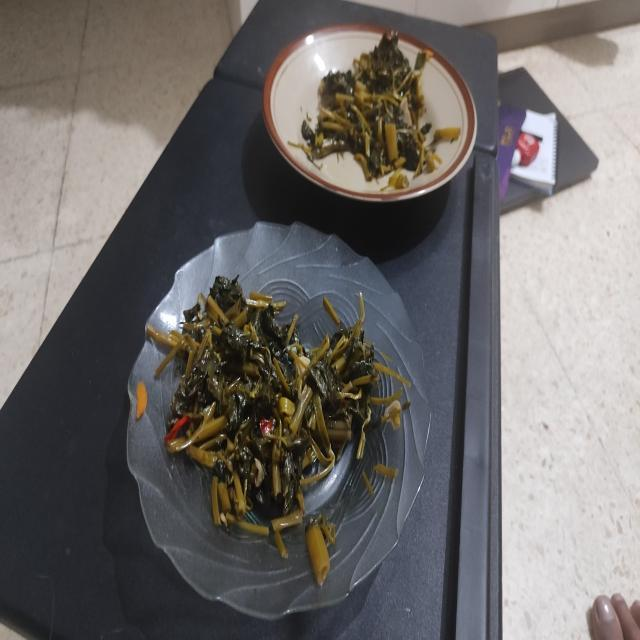tumis_kangkung: (148, 276, 380, 536), (301, 31, 441, 192)
